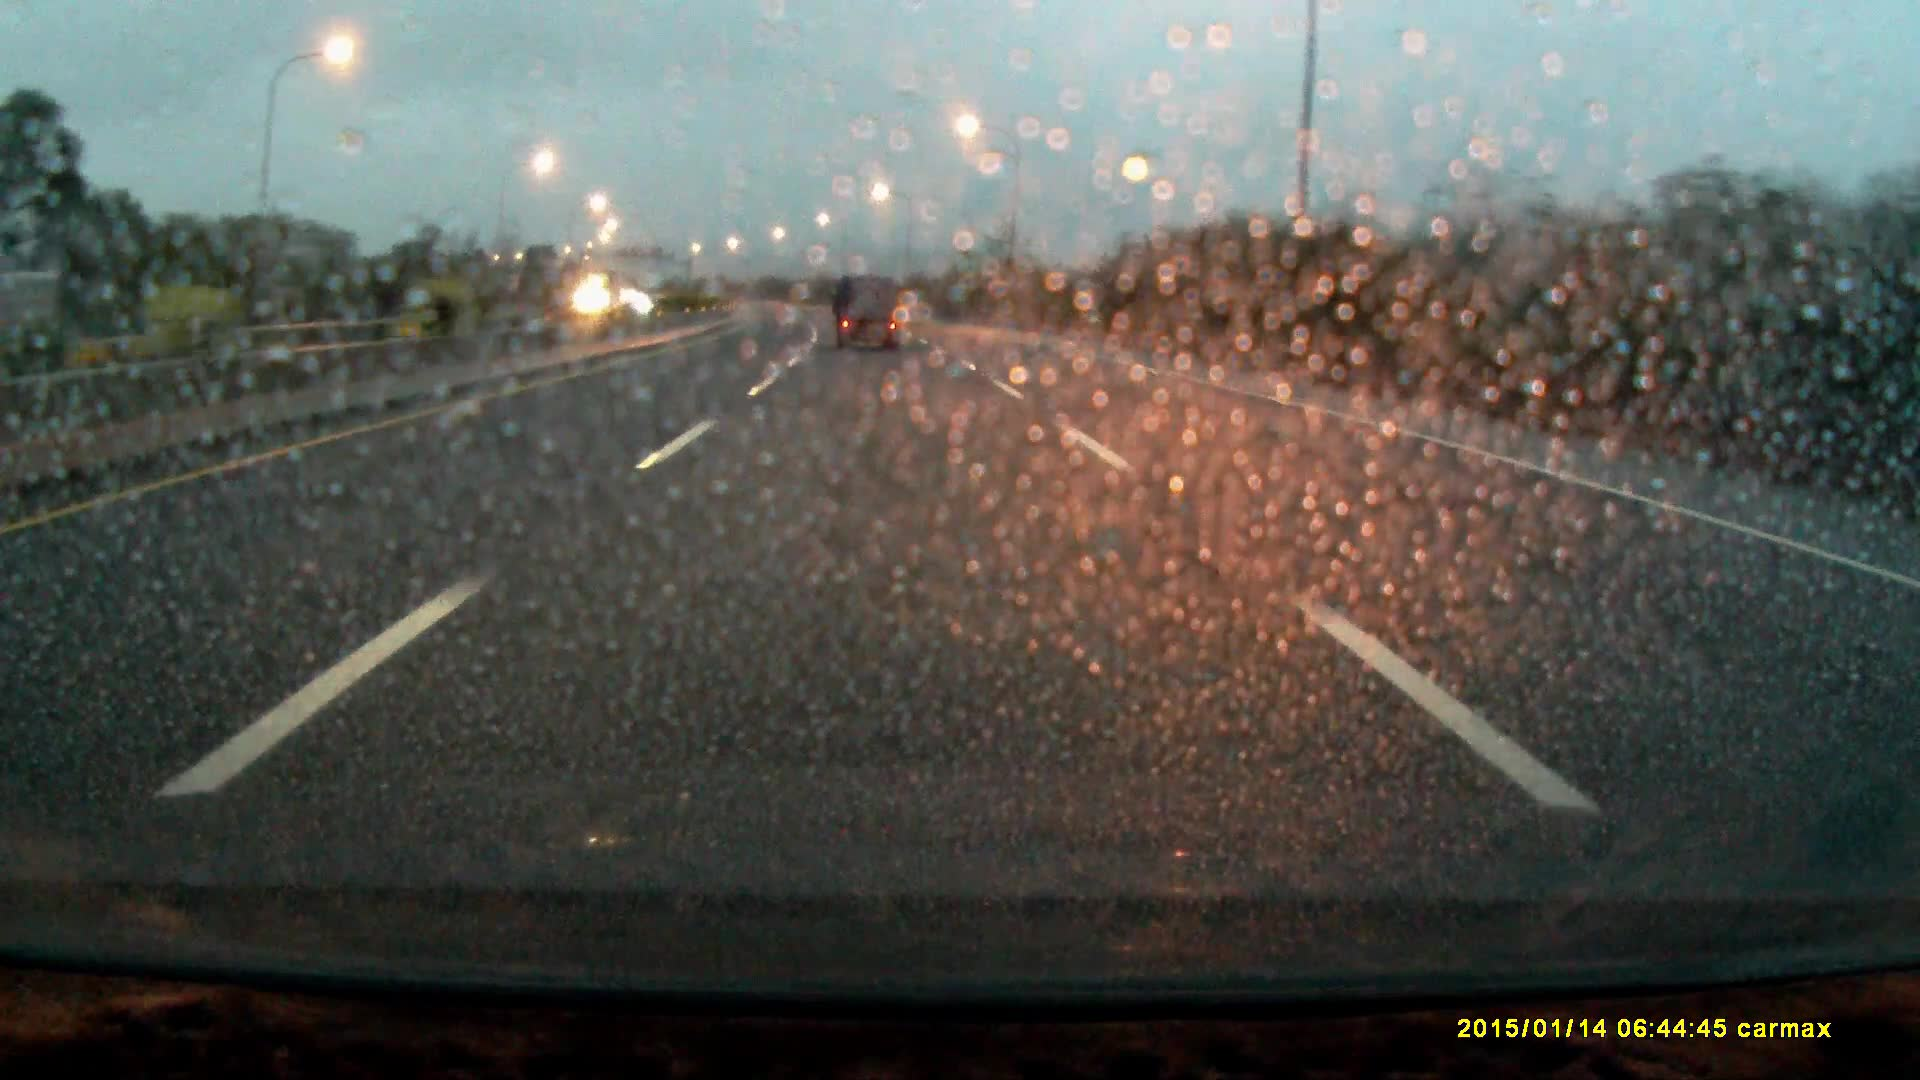vehicle: (833, 276, 903, 355)
